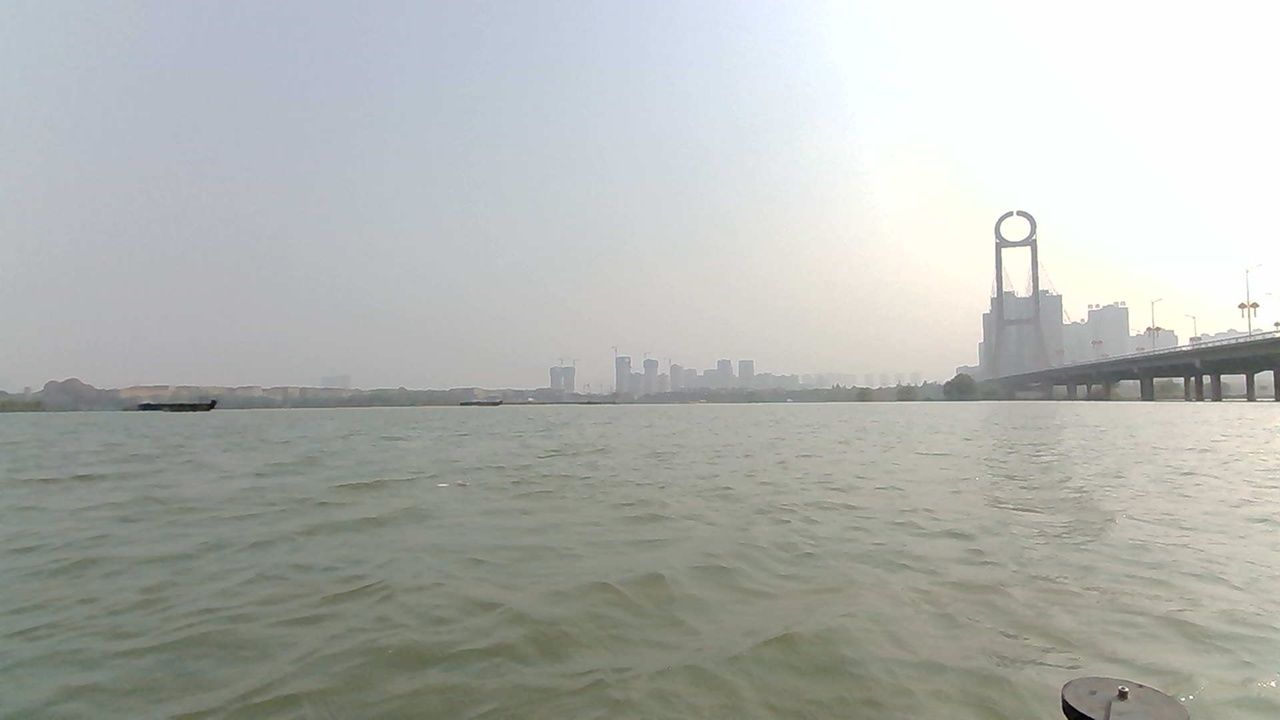bottle: (430, 466, 485, 499)
